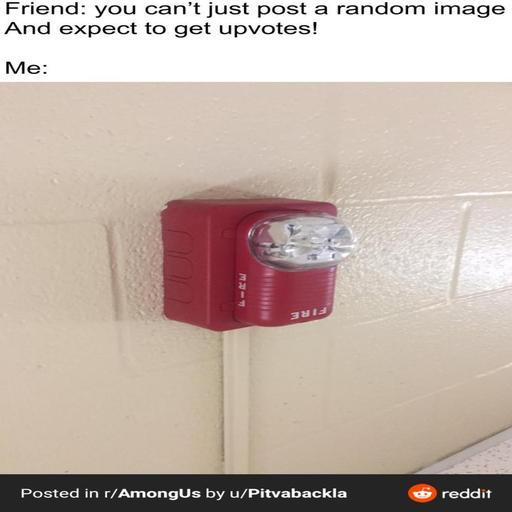Crewmate: (208, 205, 359, 332)
